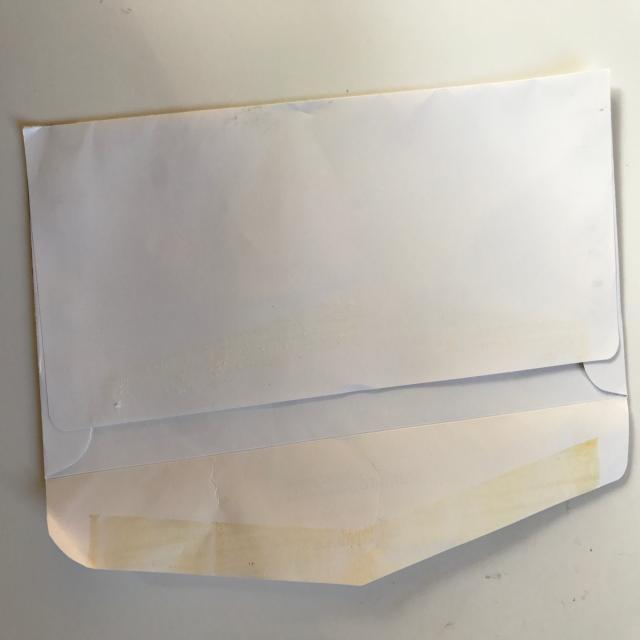paper: (22, 65, 632, 586)
